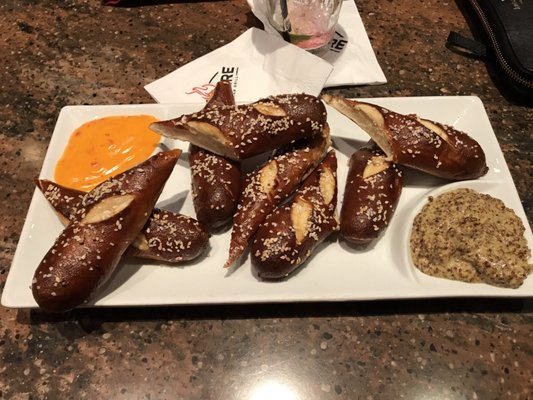soup: (31, 140, 183, 313)
